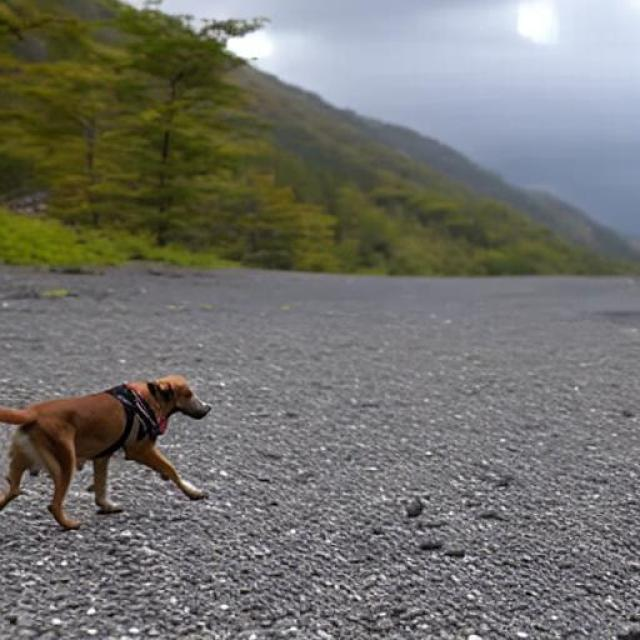Dog: (0, 376, 211, 528)
